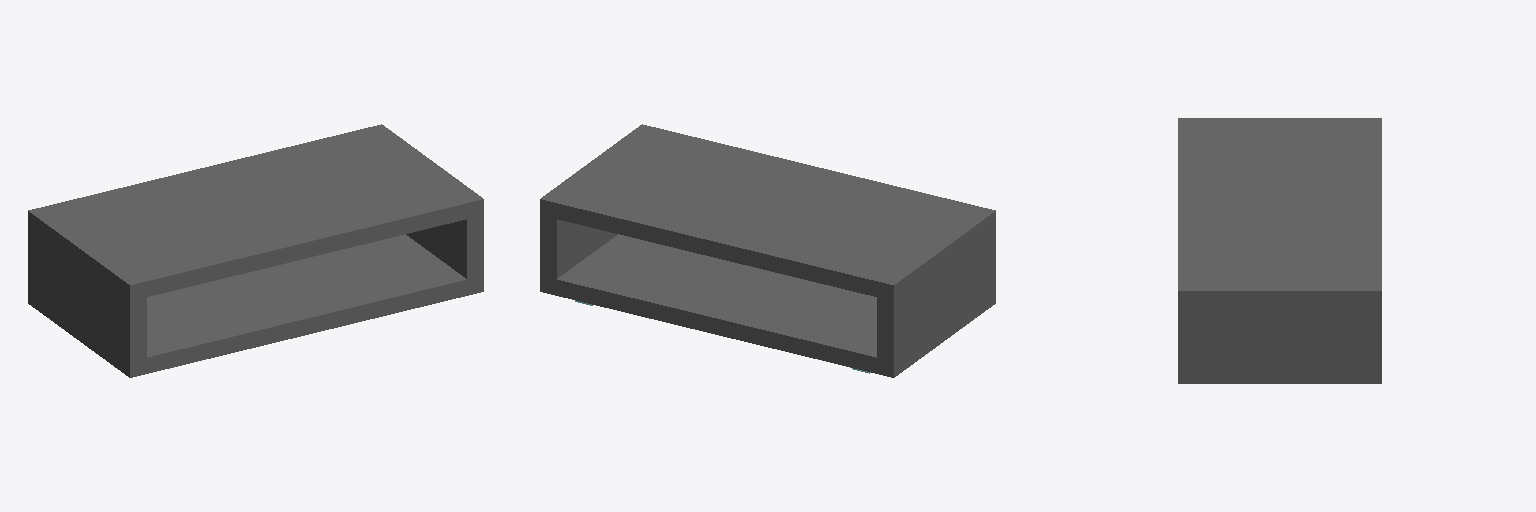
File: tvStand.obj
The picture shows the model from 3 angles: view 1: azimuth 30°, elevation 25°; view 2: azimuth 150°, elevation 25°; view 3: azimuth 270°, elevation 25°; orthographic projection.
Visible parts, largest first — view 1: Box001; view 2: Box001; view 3: Box001.
Part boxes in pixels (left/top/right/bottom): Box001: left=28, top=124, right=483, bottom=377; Box001: left=540, top=124, right=995, bottom=377; Box001: left=1178, top=118, right=1381, bottom=383.
Bounding box in the file's own units: 80 × 22.08 × 40.